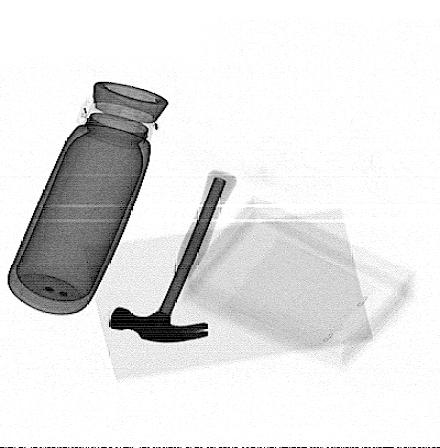Hammer: (108, 169, 238, 344)
